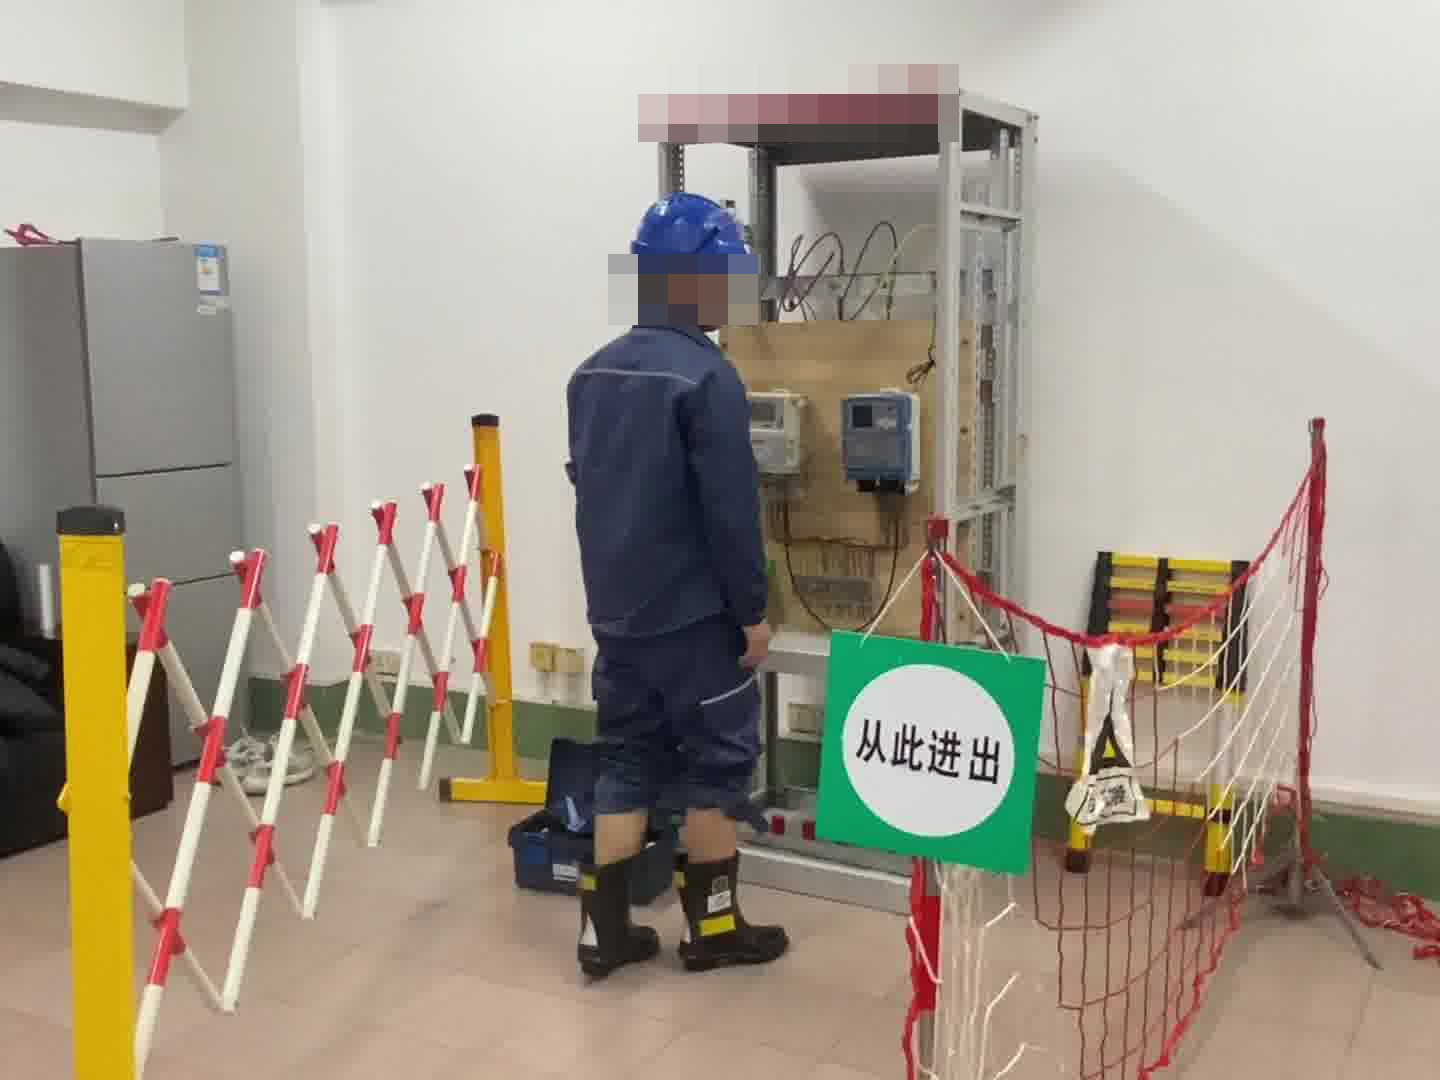downsuit: (567, 650, 764, 813)
halt: (625, 192, 756, 327)
hand: (740, 624, 772, 675)
inear: (661, 259, 702, 308)
intosign: (816, 631, 1042, 862)
person: (542, 187, 791, 973)
shoe: (678, 861, 789, 960), (573, 858, 658, 965)
upsuit: (563, 317, 771, 632)
wrongbottom: (672, 769, 751, 878), (595, 774, 650, 870)
